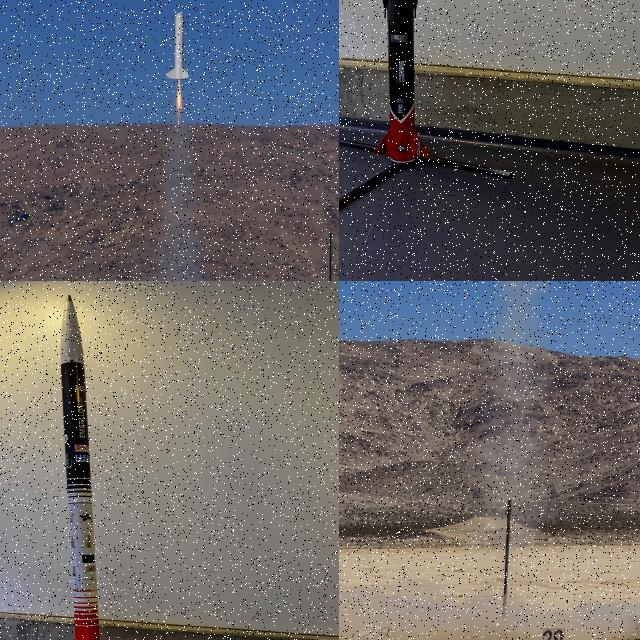Rocket: (60, 294, 100, 640), (374, 0, 429, 163), (166, 11, 190, 80)
